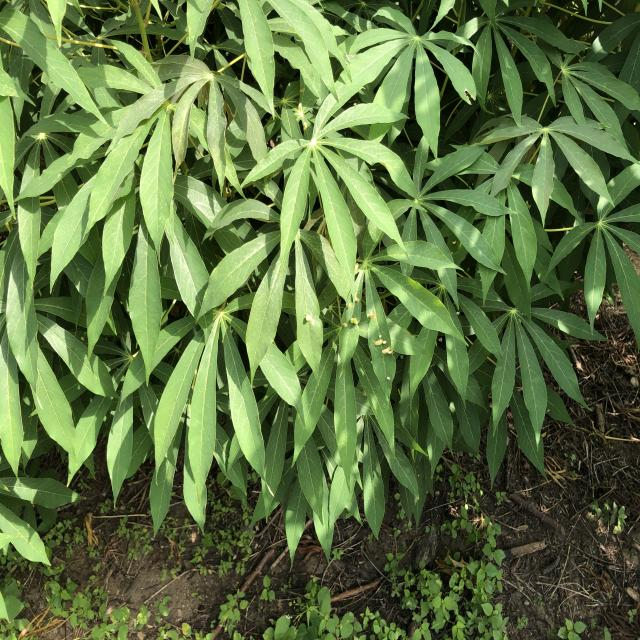Mosca: (372, 334, 396, 361), (76, 331, 93, 358), (300, 308, 320, 329), (338, 315, 360, 334), (444, 234, 463, 255), (346, 292, 362, 311), (367, 303, 382, 322), (385, 373, 398, 384)
